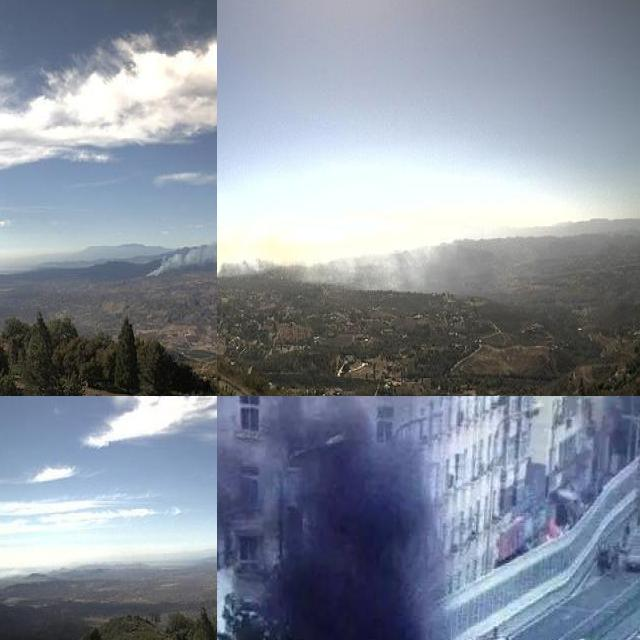smoke: (262, 396, 444, 640), (217, 226, 448, 298), (141, 220, 217, 280)
